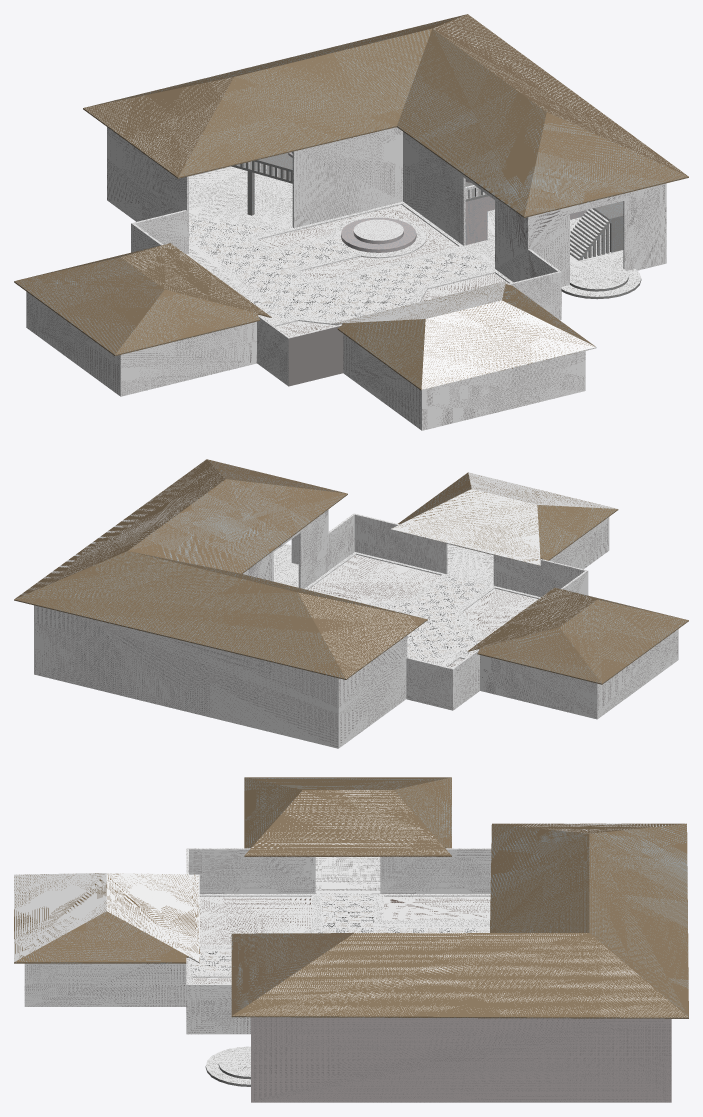
File: Newcomers_Guild.dae
3 views of the same model, one above another, from view 1: azimuth 30°, elevation 25°; view 2: azimuth 150°, elevation 25°; view 3: azimuth 270°, elevation 25° (orthographic). The views are drawn at different scales.
Visible parts, largest first — view 1: SketchUp (×11); view 2: SketchUp (×7); view 3: SketchUp (×8).
Part boxes in pixels (x1=…): SketchUp (×11): x1=14, y1=14, x2=688, y2=430; SketchUp (×7): x1=14, y1=459, x2=688, y2=748; SketchUp (×8): x1=14, y1=777, x2=688, y2=1102.
Bounding box in the file's own units: 2054 × 2054 × 453.
